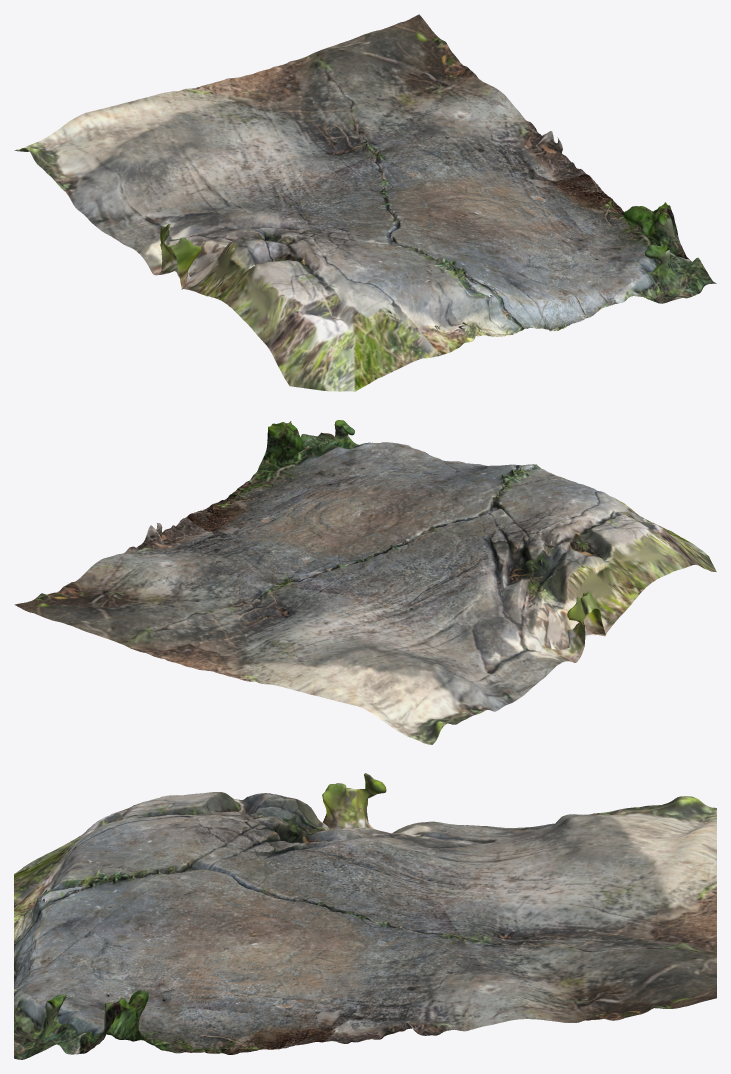
The model's file is dalle-05.glb.
3 views of the same model, one above another, from view 1: azimuth 30°, elevation 25°; view 2: azimuth 150°, elevation 25°; view 3: azimuth 270°, elevation 25° (orthographic). The views are drawn at different scales.
Visible parts, largest first — view 1: Node1; view 2: Node1; view 3: Node1.
Boxes of the visible parts, x1,y1,x2,y2 form: Node1: [14, 14, 716, 391]; Node1: [14, 420, 716, 744]; Node1: [14, 773, 716, 1059].
Bounding box in the file's own units: 1.21 × 0.206 × 1.54.
Materials: 1 (1 with a texture image).
